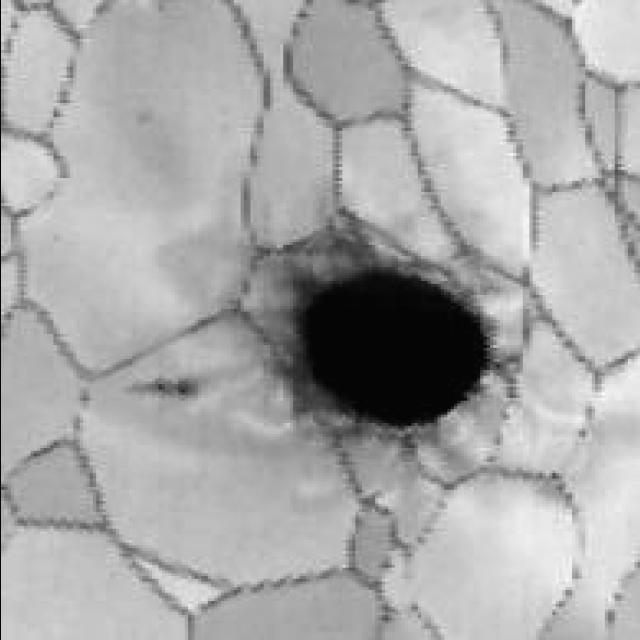good_void: (263, 229, 517, 457), (150, 377, 189, 398)
